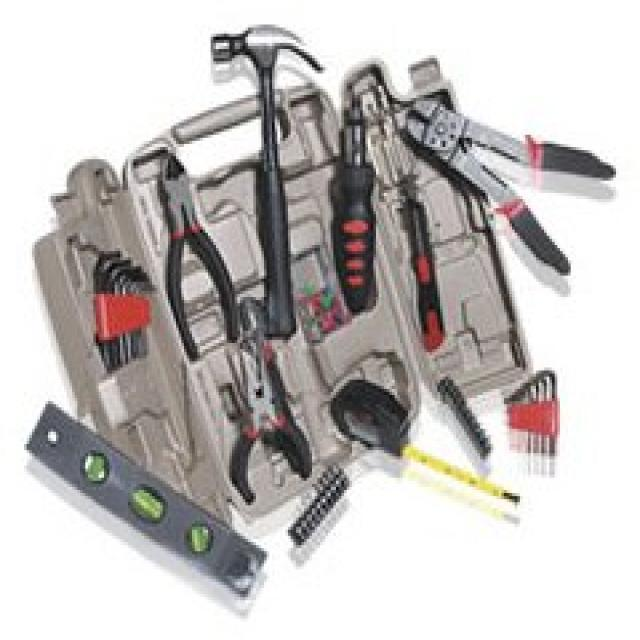hammer: (205, 16, 336, 351)
pliers: (401, 87, 625, 276), (154, 141, 247, 360)
